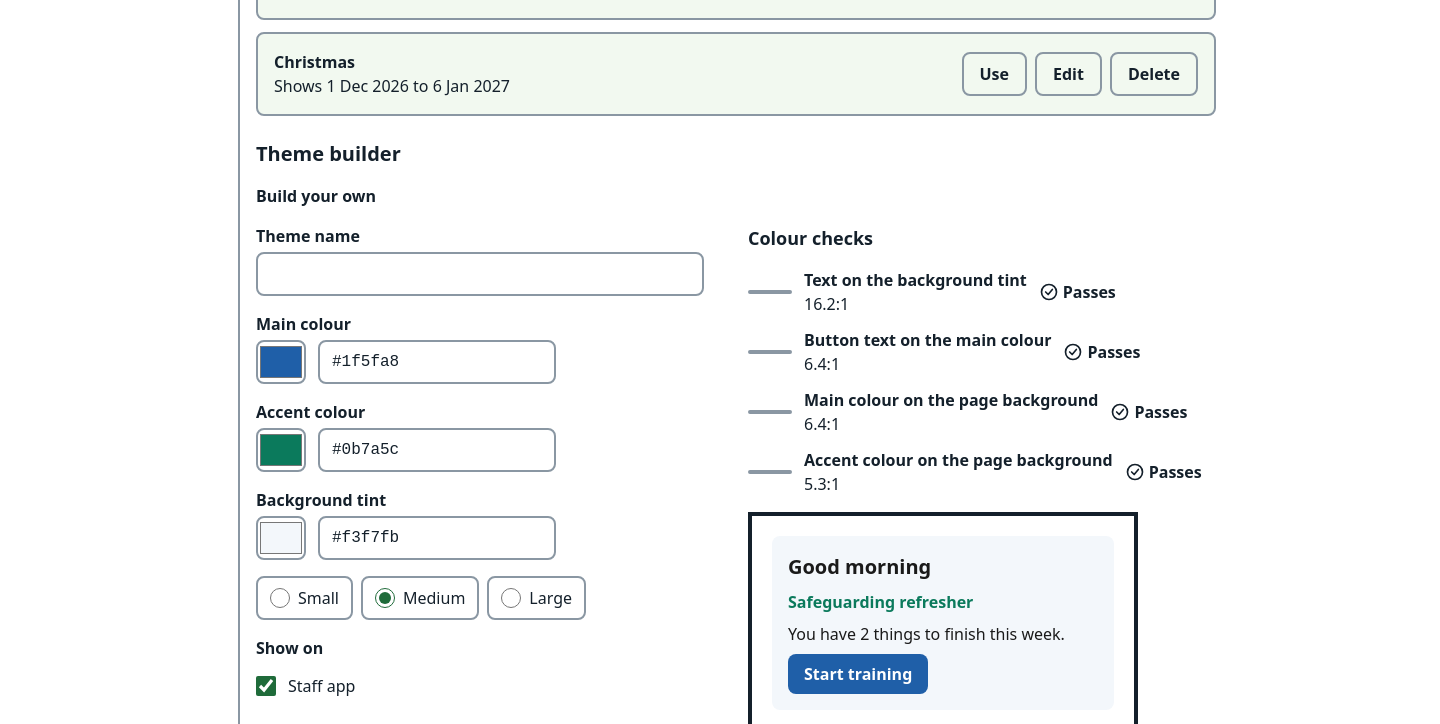
Test case: C17 builder (BP-7) › refuses a save that fails contrast, lists the failing pairs and stores nothing
(page scrolled)
Type "Too pale" into the field labelled "Theme name". click: (480, 274)
box: [256,252,704,296]
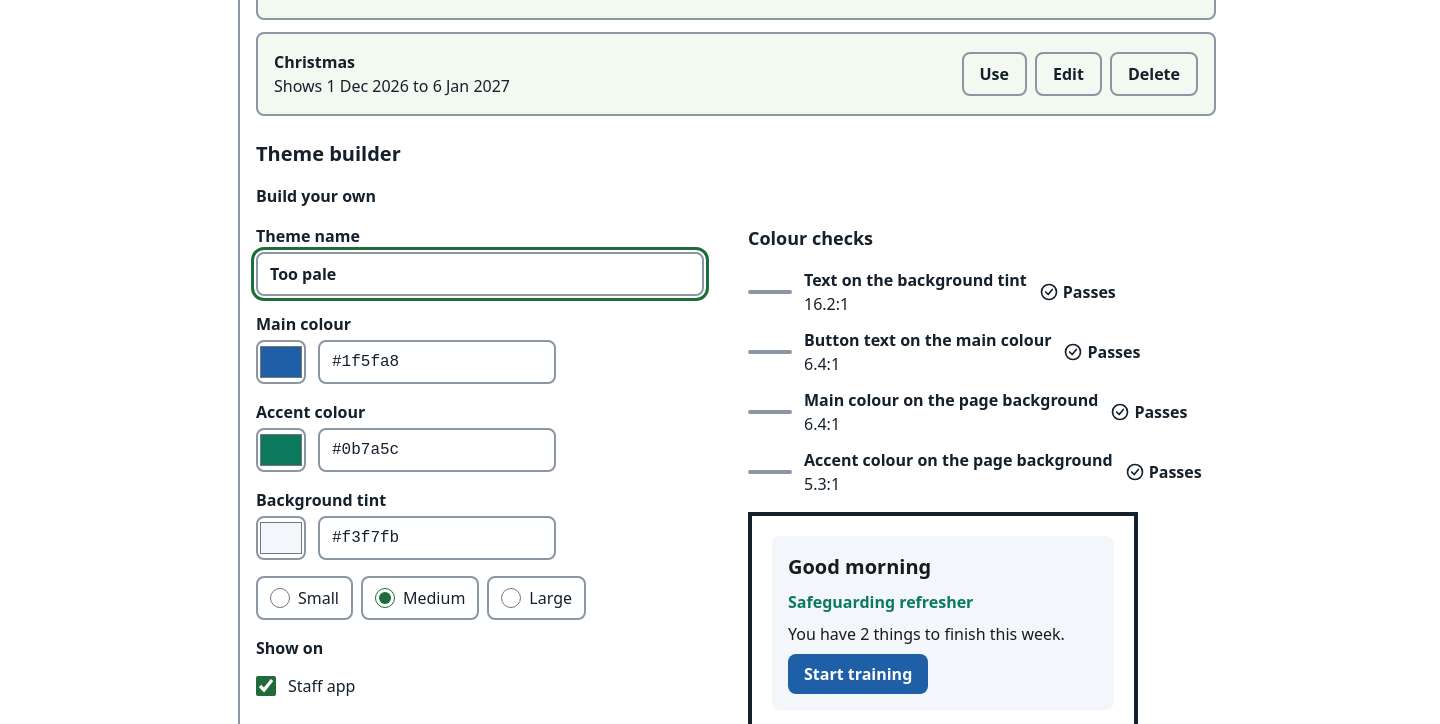
Replace the text in the field named "Main hex code" with "#ffee88". click: (437, 362)
box: [318,340,556,384]
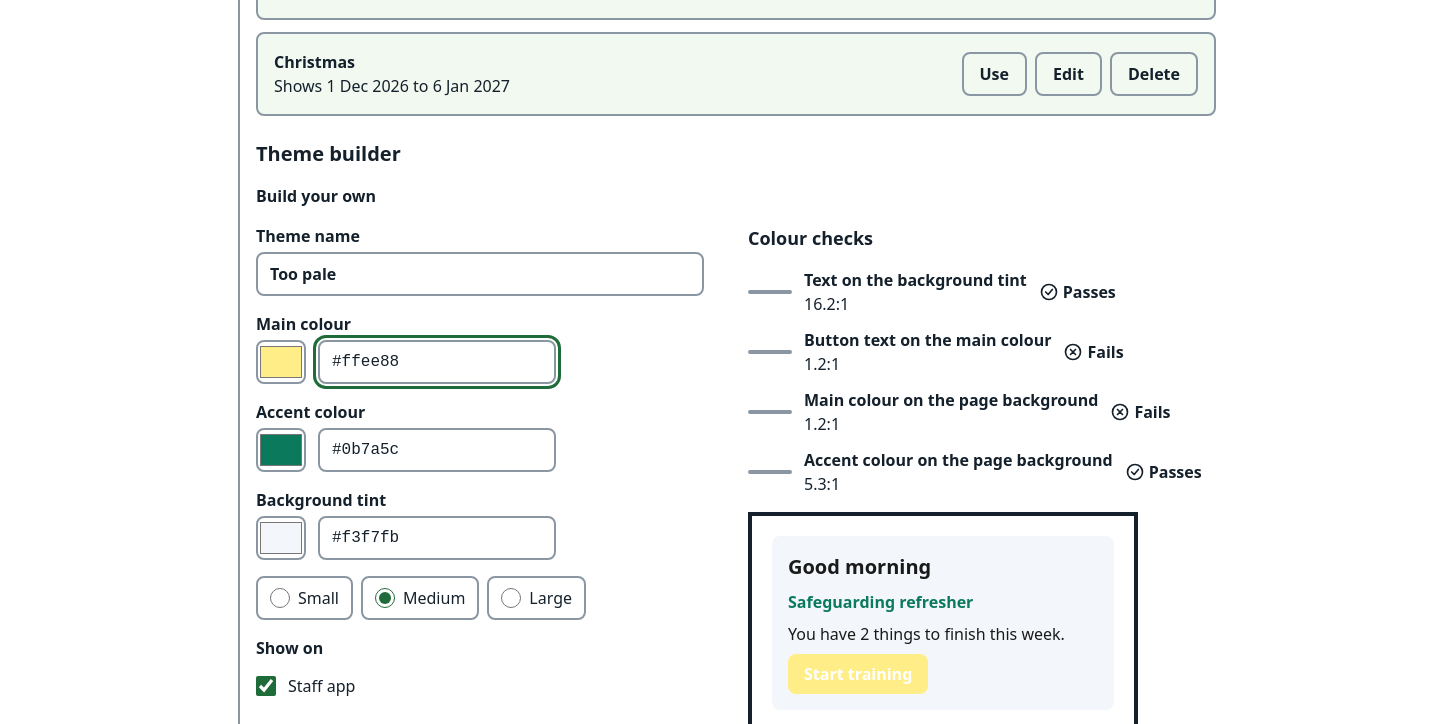
Replace the text in the field named "Accent hex code" with "#ffff99". click: (437, 450)
box: [318,428,556,472]
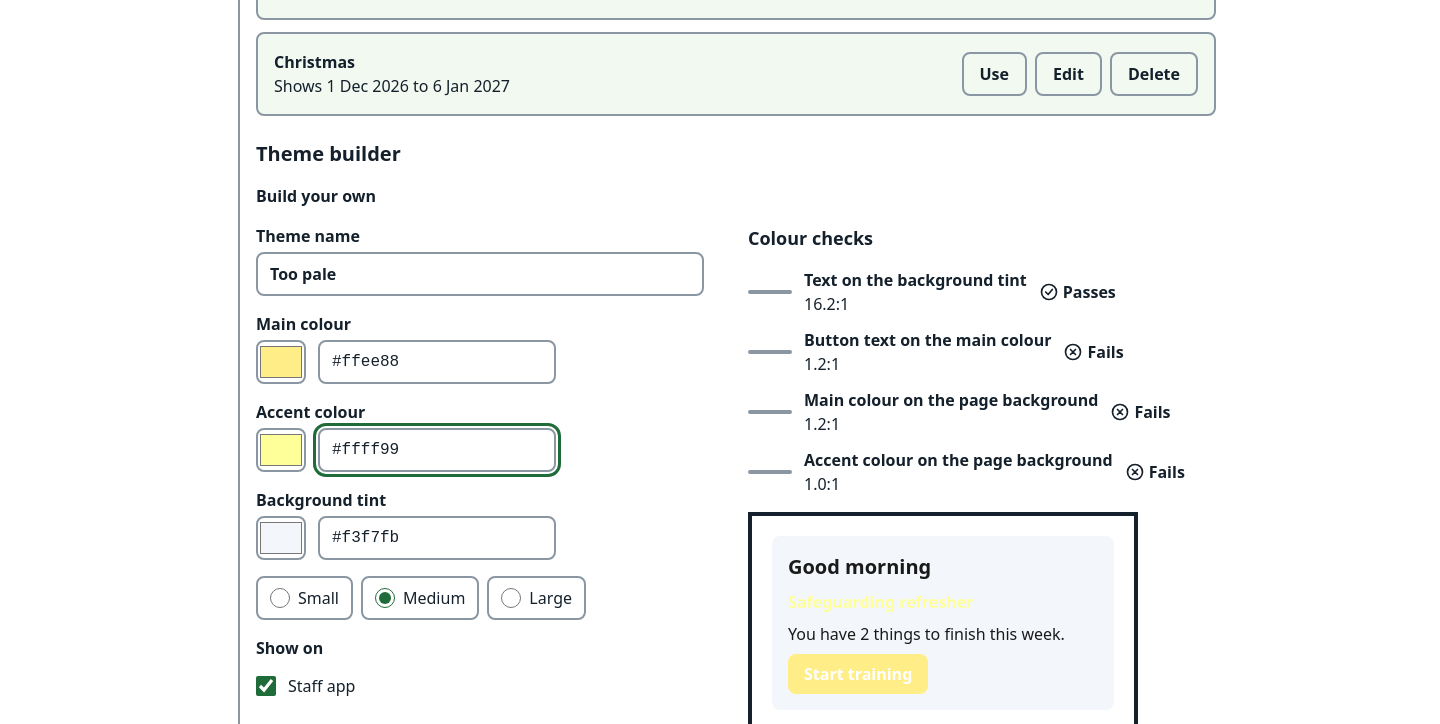
Replace the text in the field named "Background hex code" with "#222222". click: (437, 538)
box: [318,516,556,560]
(page scrolled)
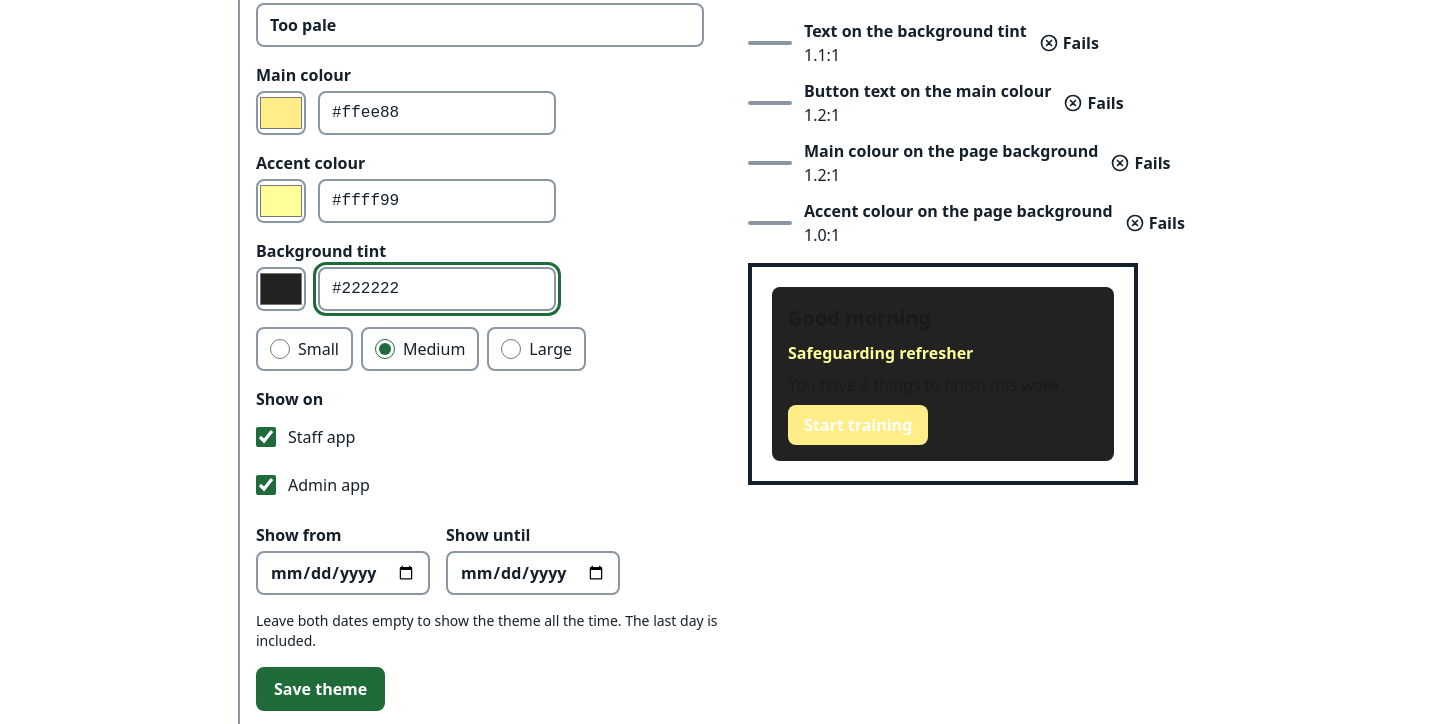
Click the button "Save theme". click: (321, 689)
box: [256,667,385,711]
(page scrolled)
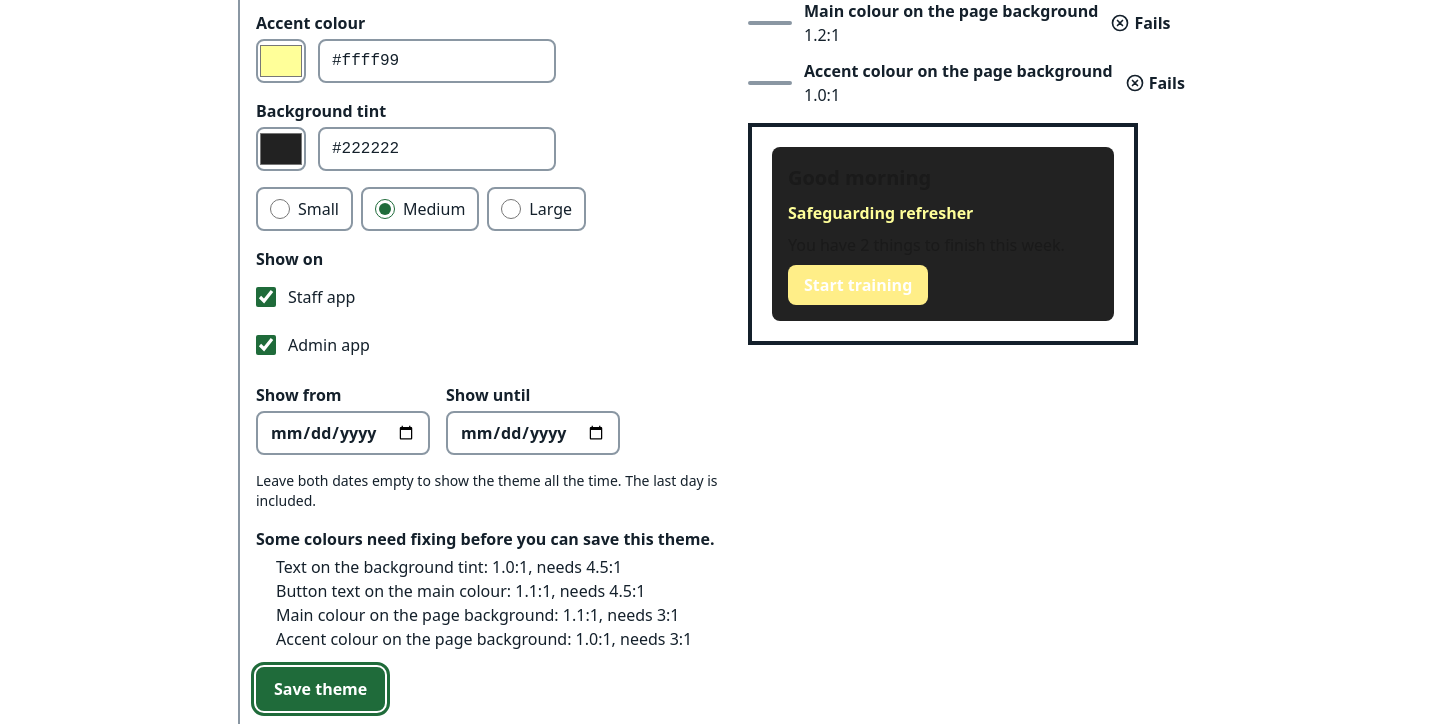
expect the message shows "Text on the background tint": met, box [276,556,622,578]
expect the message shows "Button text on the main colour": met, box [276,580,645,602]
expect the message shows "Main colour on the page background": met, box [276,604,680,626]
